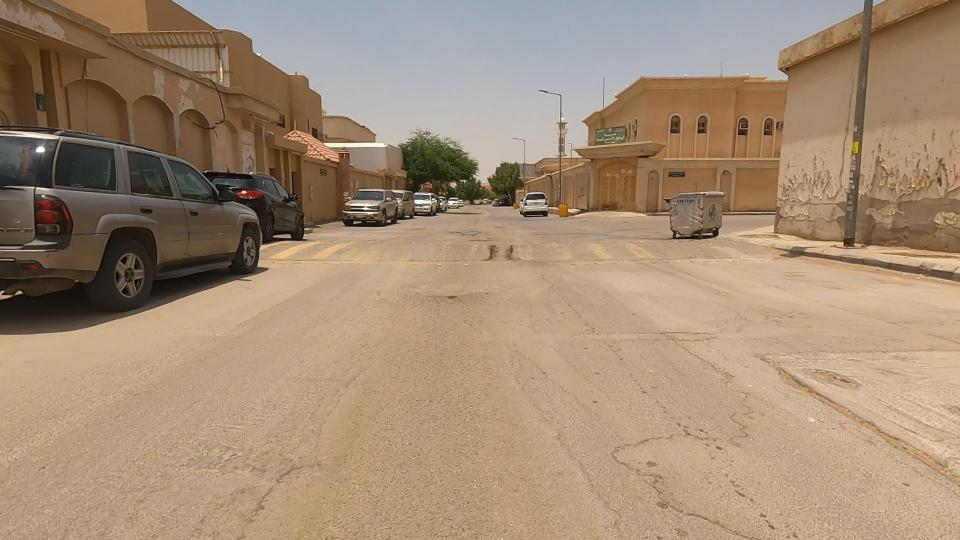POTHOLES: (408, 209, 529, 260)
UNKEPT_FACADE: (678, 111, 960, 304)
